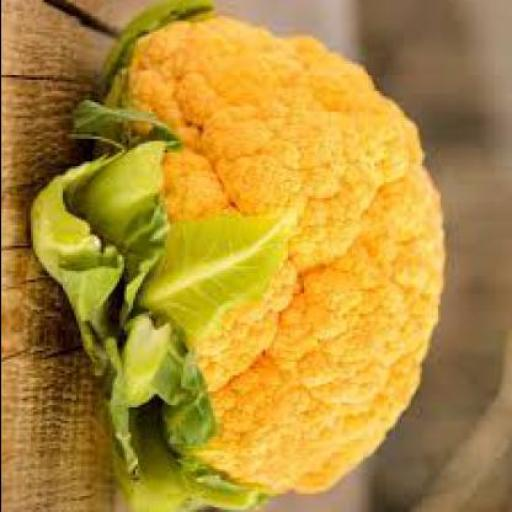biodegradable: (31, 2, 447, 511), (107, 18, 453, 498), (24, 2, 276, 511)
